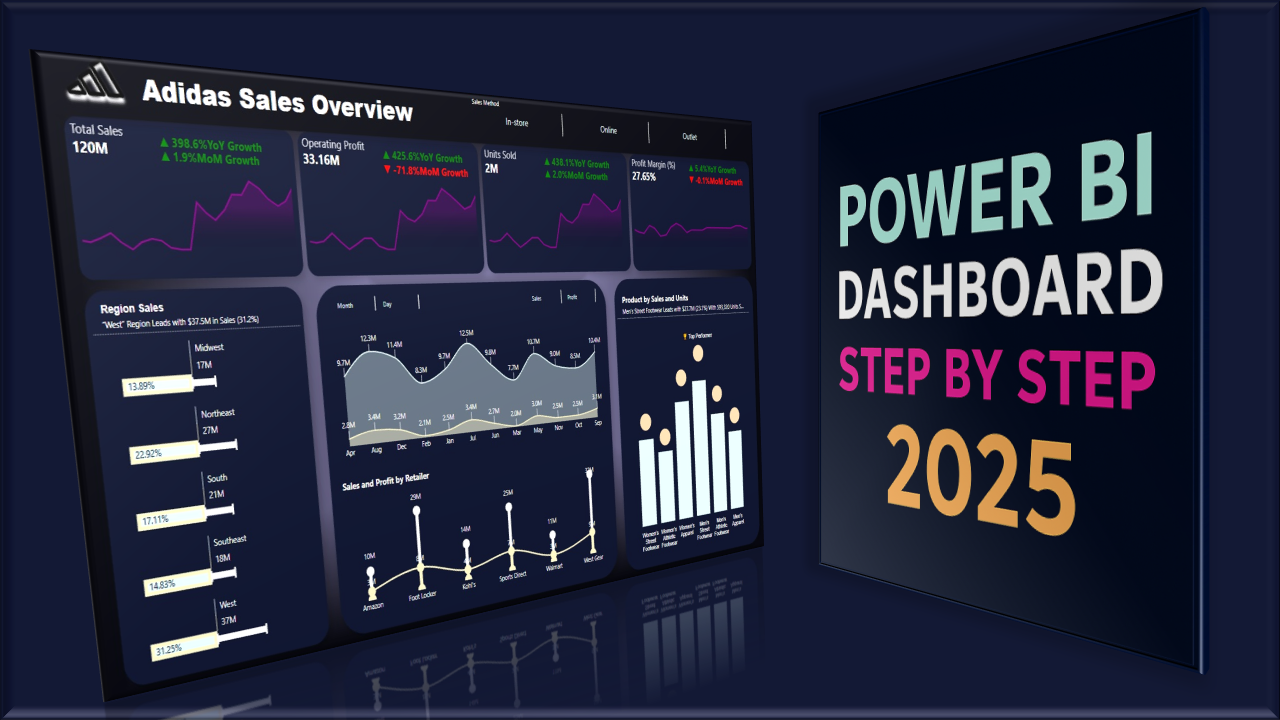

This screenshot's page, from the dashboard's own definition file:
{"tool":"powerbi","page":{"name":"Adidas Sales Dashboard","canvas":[1600,900],"ordinal":0},"visuals":[{"type":"cardVisual","fields":{"Data":["Metrics.Total Sales","Metrics.Operating Profit","Metrics.Units Sold","Metrics.Profit Margin (%)"]},"box":[31.2,78,1542.5,219.8],"z":0},{"type":"cardVisual","fields":{"Data":["Metrics.YoY Units Sold Label"]},"box":[953.7,83.3,212.3,49],"z":1000},{"type":"cardVisual","fields":{"Data":["Metrics.Yoy Profit Label"]},"box":[579.7,86.5,204.1,49],"z":2000},{"type":"cardVisual","fields":{"Data":["Metrics.MoM Units Sold Label"]},"box":[953.7,104.5,212.3,53.9],"z":3000},{"type":"cardVisual","fields":{"Data":["Metrics.YoY Profit Margin Label"]},"box":[1365.2,78.4,192.7,62.1],"z":4000},{"type":"cardVisual","fields":{"Data":["Metrics.MoM Profit Label"]},"box":[579.7,109.4,204.1,49],"z":5000},{"type":"cardVisual","fields":{"Data":["Metrics.YoY Sales Label"]},"box":[169.8,86.5,213.9,44.1],"z":6000},{"type":"cardVisual","fields":{"Data":["Metrics.MoM Profit Margin Label"]},"box":[1365.2,102.9,208.7,37.7],"z":7000},{"type":"cardVisual","fields":{"Data":["Metrics.MoM Sales Label"]},"box":[169.6,107.2,208.7,44.9],"z":8000},{"type":"clusteredBarChart","title":"Region Sales","fields":{"Category":["DimLocation.Region"],"Y":["Charts Design.Header","Charts Design.Subheader","Charts Design.Total Bar"]},"box":[42.9,318.6,354.3,550],"z":9000},{"type":"areaChart","fields":{"Category":["DimDate.Short Month"],"Y":["Metrics.Total Sales","Metrics.Operating Profit"]},"box":[438.6,374.3,670,237.1],"z":10000},{"type":"advancedSlicerVisual","fields":{"Values":["Parameter.Parameter"]},"box":[890,318.6,208.6,55.7],"z":11000},{"type":"advancedSlicerVisual","fields":{"Values":["Parameter Pm Periods.Parameter Pm Periods"]},"box":[450,320,211.4,54.3],"z":12000},{"type":"lineChart","fields":{"Y":["Metrics.Total Sales","Metrics.Operating Profit"],"Category":["Adidas Sales.Retailer"]},"box":[438.6,611.4,660,257.1],"z":13000},{"type":"lineStackedColumnComboChart","title":"Product by Sales and Units","fields":{"Category":["Adidas Sales.Product"],"Y":["Metrics.Total Sales","Charts Design.ScaledSales"],"Y2":["Charts Design.SalesBubble"]},"box":[1141.4,330,417.1,538.6],"z":14000},{"type":"advancedSlicerVisual","fields":{"Values":["Adidas Sales.Sales Method"]},"box":[768.6,8.6,745.7,70],"z":15000},{"type":"textbox","box":[784.3,8.6,84.3,21.4],"z":16000}]}

Visuals, with their boxes in screenshot pixels (x1, y1, x2, y2), scaled from the page's 1600x900 canvas onto the 1280x720 screenshot:
cardVisual - Metrics.Total Sales x Metrics.Operating Profit: pyautogui.locateOnScreen(25, 62, 1259, 238)
cardVisual - Metrics.YoY Units Sold Label: pyautogui.locateOnScreen(763, 67, 933, 106)
cardVisual - Metrics.Yoy Profit Label: pyautogui.locateOnScreen(464, 69, 627, 108)
cardVisual - Metrics.MoM Units Sold Label: pyautogui.locateOnScreen(763, 84, 933, 127)
cardVisual - Metrics.YoY Profit Margin Label: pyautogui.locateOnScreen(1092, 63, 1246, 112)
cardVisual - Metrics.MoM Profit Label: pyautogui.locateOnScreen(464, 88, 627, 127)
cardVisual - Metrics.YoY Sales Label: pyautogui.locateOnScreen(136, 69, 307, 104)
cardVisual - Metrics.MoM Profit Margin Label: pyautogui.locateOnScreen(1092, 82, 1259, 112)
cardVisual - Metrics.MoM Sales Label: pyautogui.locateOnScreen(136, 86, 303, 122)
"Region Sales" clusteredBarChart: pyautogui.locateOnScreen(34, 255, 318, 695)
areaChart - DimDate.Short Month x Metrics.Total Sales: pyautogui.locateOnScreen(351, 299, 887, 489)
advancedSlicerVisual - Parameter.Parameter: pyautogui.locateOnScreen(712, 255, 879, 299)
advancedSlicerVisual - Parameter Pm Periods.Parameter Pm Periods: pyautogui.locateOnScreen(360, 256, 529, 299)
lineChart - Metrics.Total Sales x Metrics.Operating Profit: pyautogui.locateOnScreen(351, 489, 879, 695)
"Product by Sales and Units" lineStackedColumnComboChart: pyautogui.locateOnScreen(913, 264, 1247, 695)
advancedSlicerVisual - Adidas Sales.Sales Method: pyautogui.locateOnScreen(615, 7, 1211, 63)
textbox: pyautogui.locateOnScreen(627, 7, 695, 24)
